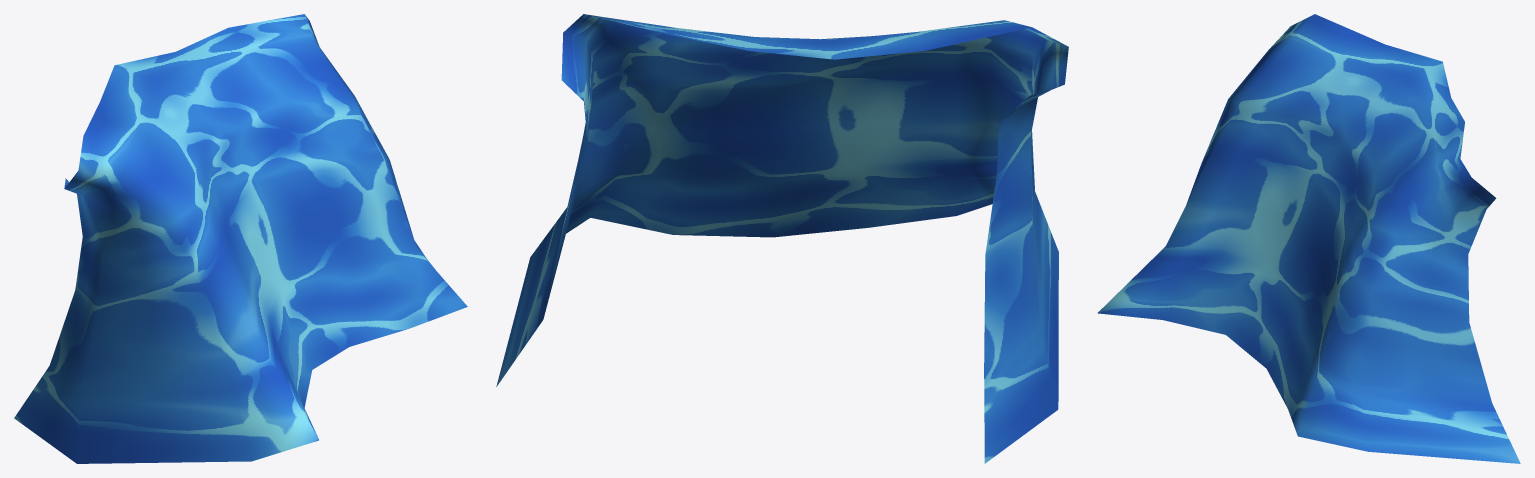
The model's file is SalaLagoVeraoCachoeiraQueda.fbx.
3 views of the same model, side by side, from view 1: azimuth 30°, elevation 25°; view 2: azimuth 150°, elevation 25°; view 3: azimuth 270°, elevation 25° (orthographic). The views are drawn at different scales.
Visible parts, largest first — view 1: CachoeiraSemMaterial; view 2: CachoeiraSemMaterial; view 3: CachoeiraSemMaterial.
Boxes of the visible parts, x1,y1,x2,y2 form: CachoeiraSemMaterial: (14,14,467,463); CachoeiraSemMaterial: (496,14,1068,463); CachoeiraSemMaterial: (1097,14,1520,463).
Size of the model in its own units: 106 by 78.28 by 97.96.
